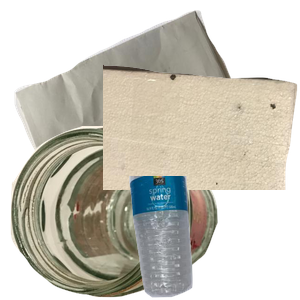glass: (10, 126, 220, 300)
paper: (12, 10, 240, 176)
plastic: (127, 176, 300, 300)
trash: (103, 62, 300, 242)
